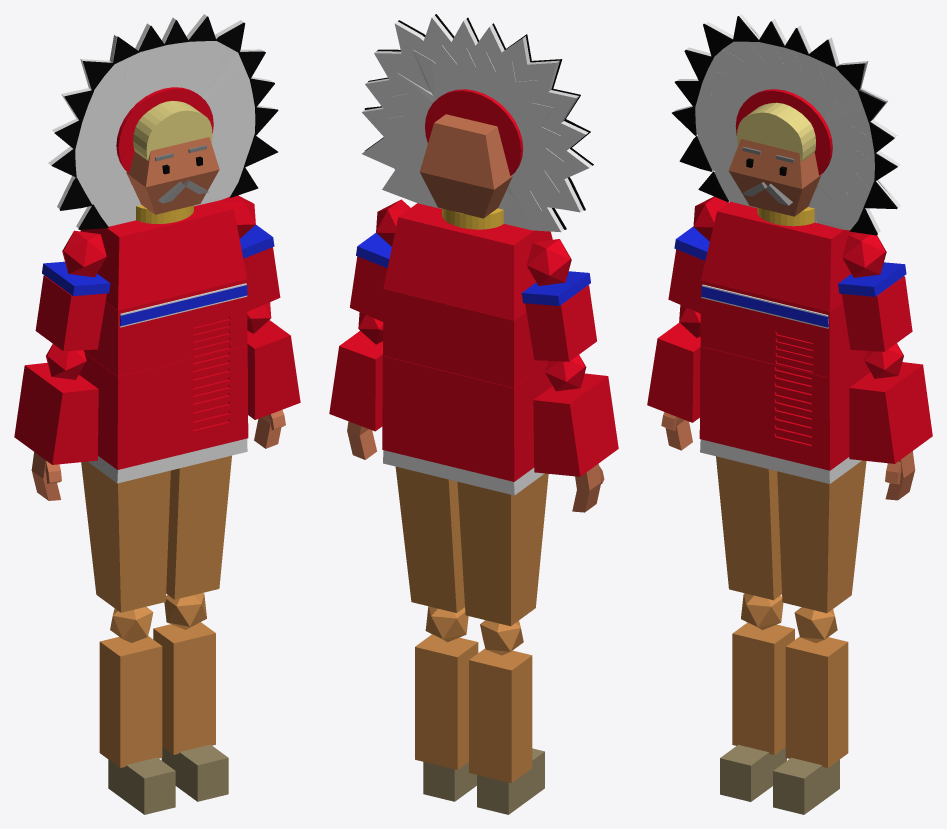
Rendered from doksuri.fbx.
The picture shows the model from 3 angles, left to right: view 1: azimuth 30°, elevation 25°; view 2: azimuth 150°, elevation 25°; view 3: azimuth 330°, elevation 25°; orthographic projection.
Visible parts, largest first — view 1: Cube.006, Cube.076, Cube.005, Cube.020, Cube.001, Cube.021, Cube.013, Cube.017, Cube.014, Cube.002, Cube.007, Cube.008 (+20 smaller); view 2: Cube.006, Cube.076, Cube.005, Cube.020, Cube.001, Cube.021, Cube.013, Cube.002, Cube.014, Cube.017, Cube.007, Cube.008 (+16 smaller); view 3: Cube.006, Cube.076, Cube.005, Cube.013, Cube.001, Cube.014, Cube.020, Cube.021, Cube.007, Cube.002, Cube.017, Cube.009 (+20 smaller).
Boxes of the visible parts, bbox=[...] form: Cube.006: bbox=[48, 14, 274, 227]; Cube.076: bbox=[79, 345, 248, 469]; Cube.005: bbox=[80, 200, 246, 310]; Cube.020: bbox=[81, 461, 170, 612]; Cube.001: bbox=[84, 279, 247, 376]; Cube.021: bbox=[99, 636, 162, 767]; Cube.013: bbox=[166, 455, 231, 599]; Cube.017: bbox=[14, 362, 98, 464]; Cube.014: bbox=[153, 622, 215, 754]; Cube.002: bbox=[126, 137, 219, 214]; Cube.007: bbox=[247, 320, 300, 419]; Cube.008: bbox=[35, 275, 106, 351]; Cube.006: bbox=[362, 15, 592, 232]; Cube.076: bbox=[382, 356, 552, 481]; Cube.005: bbox=[383, 203, 552, 320]; Cube.020: bbox=[457, 473, 548, 626]; Cube.001: bbox=[383, 289, 547, 387]; Cube.021: bbox=[469, 648, 532, 783]; Cube.013: bbox=[395, 466, 464, 612]; Cube.002: bbox=[420, 114, 512, 218]; Cube.014: bbox=[415, 634, 478, 769]; Cube.017: bbox=[533, 373, 618, 476]; Cube.007: bbox=[329, 331, 382, 431]; Cube.008: bbox=[525, 285, 596, 361]; Cube.006: bbox=[673, 14, 900, 233]; Cube.076: bbox=[699, 346, 870, 470]; Cube.005: bbox=[701, 201, 859, 312]; Cube.013: bbox=[777, 460, 866, 613]; Cube.001: bbox=[700, 280, 866, 377]; Cube.014: bbox=[785, 636, 848, 767]; Cube.020: bbox=[716, 456, 781, 600]; Cube.021: bbox=[732, 622, 794, 754]; Cube.007: bbox=[849, 362, 932, 463]; Cube.002: bbox=[728, 139, 822, 216]; Cube.017: bbox=[647, 322, 700, 422]; Cube.009: bbox=[842, 276, 912, 351].
Size of the model in its own units: 64.63 by 190 by 24.28.
